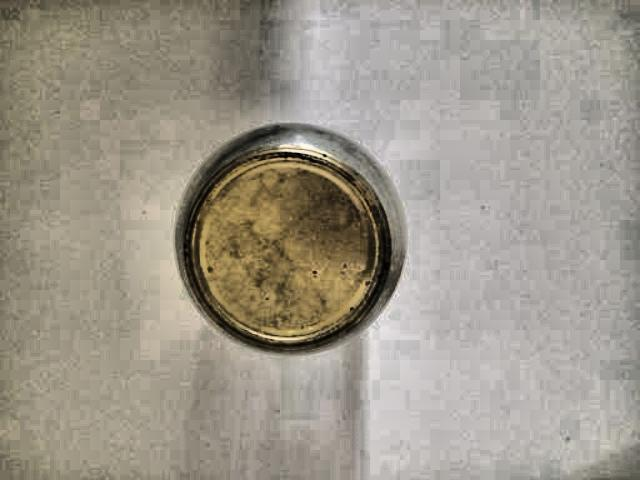Almennt: (150, 87, 416, 384)
